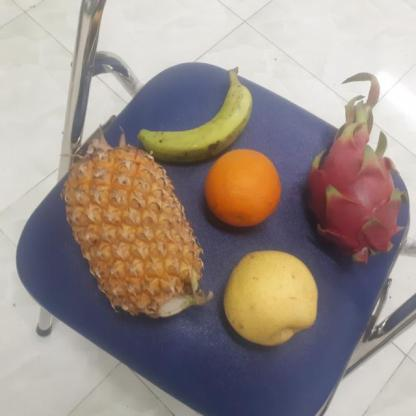banana: (134, 66, 252, 162)
orange: (200, 147, 284, 227)
pear: (218, 252, 319, 347)
pineapple: (59, 149, 206, 316)
pitaya: (298, 130, 405, 266)
